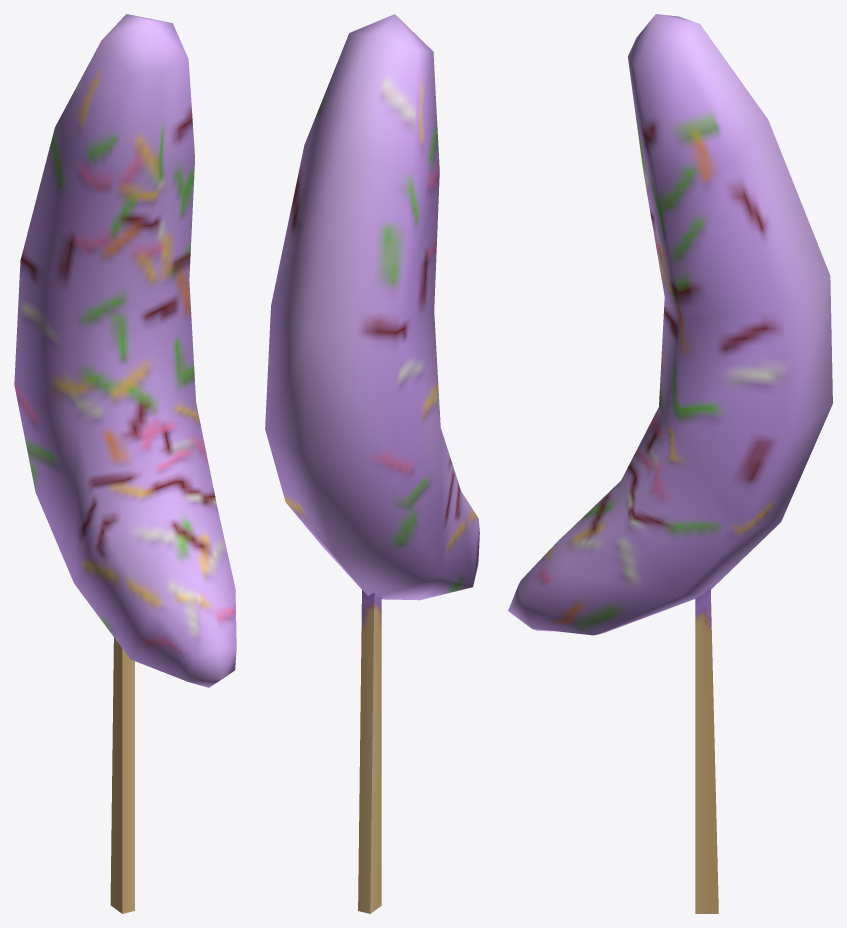
File: jsf_ChocolateBanana_a02_c04.fbx
The picture shows the model from 3 angles, left to right: view 1: azimuth 30°, elevation 25°; view 2: azimuth 150°, elevation 25°; view 3: azimuth 270°, elevation 25°; orthographic projection. The views are drawn at different scales.
Visible parts, largest first — view 1: jsf_ChocolateBanana_a02_c04; view 2: jsf_ChocolateBanana_a02_c04; view 3: jsf_ChocolateBanana_a02_c04.
Part boxes in pixels (left/top/right/bottom): jsf_ChocolateBanana_a02_c04: left=14, top=14, right=236, bottom=913; jsf_ChocolateBanana_a02_c04: left=265, top=14, right=479, bottom=913; jsf_ChocolateBanana_a02_c04: left=508, top=14, right=832, bottom=913.
Bounding box in the file's own units: 3.73 × 23.83 × 7.83.
